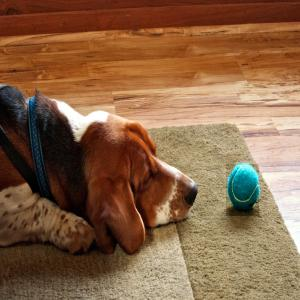TennisBall: (227, 165, 261, 218)
